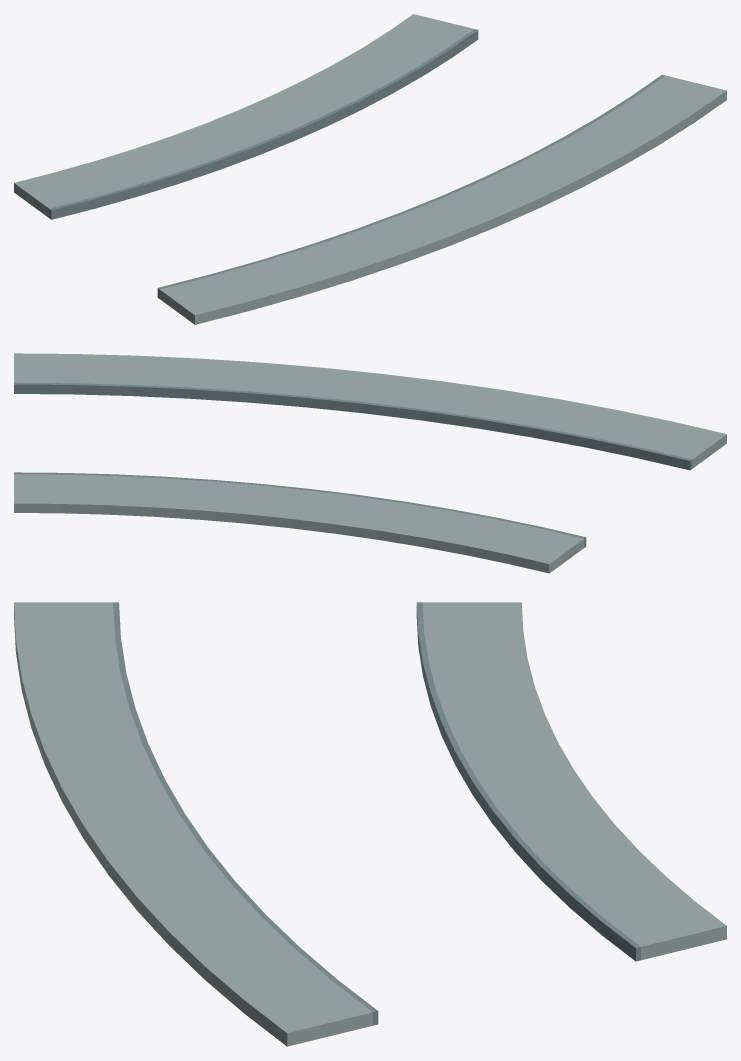
File: RoadPlan_WalkCurve_2L_A30_R36.glb
3 views of the same model, one above another, from view 1: azimuth 30°, elevation 25°; view 2: azimuth 150°, elevation 25°; view 3: azimuth 270°, elevation 25° (orthographic). The views are drawn at different scales.
Visible parts, largest first — view 1: RoadPlan_WalkCurve_2L_A30_R36_Paving_-1, RoadPlan_WalkCurve_2L_A30_R36_Paving_1, RoadPlan_WalkCurve_2L_A30_R36_Curb_1, RoadPlan_WalkCurve_2L_A30_R36_Curb_-1; view 2: RoadPlan_WalkCurve_2L_A30_R36_Paving_1, RoadPlan_WalkCurve_2L_A30_R36_Paving_-1, RoadPlan_WalkCurve_2L_A30_R36_Curb_-1, RoadPlan_WalkCurve_2L_A30_R36_Curb_1; view 3: RoadPlan_WalkCurve_2L_A30_R36_Paving_-1, RoadPlan_WalkCurve_2L_A30_R36_Paving_1, RoadPlan_WalkCurve_2L_A30_R36_Curb_1, RoadPlan_WalkCurve_2L_A30_R36_Curb_-1.
Boxes of the visible parts, x1,y1,x2,y2 form: RoadPlan_WalkCurve_2L_A30_R36_Paving_-1: (159, 75, 726, 324); RoadPlan_WalkCurve_2L_A30_R36_Paving_1: (14, 14, 473, 217); RoadPlan_WalkCurve_2L_A30_R36_Curb_1: (49, 29, 478, 219); RoadPlan_WalkCurve_2L_A30_R36_Curb_-1: (157, 74, 665, 298); RoadPlan_WalkCurve_2L_A30_R36_Paving_1: (14, 474, 583, 573); RoadPlan_WalkCurve_2L_A30_R36_Paving_-1: (14, 353, 726, 468); RoadPlan_WalkCurve_2L_A30_R36_Curb_-1: (14, 382, 692, 470); RoadPlan_WalkCurve_2L_A30_R36_Curb_1: (14, 472, 586, 547); RoadPlan_WalkCurve_2L_A30_R36_Paving_-1: (14, 602, 372, 1046); RoadPlan_WalkCurve_2L_A30_R36_Paving_1: (422, 602, 726, 960); RoadPlan_WalkCurve_2L_A30_R36_Curb_1: (416, 602, 640, 961); RoadPlan_WalkCurve_2L_A30_R36_Curb_-1: (113, 602, 378, 1025).
Bounding box in the file's own units: 20.56 × 0.3 × 14.38.
